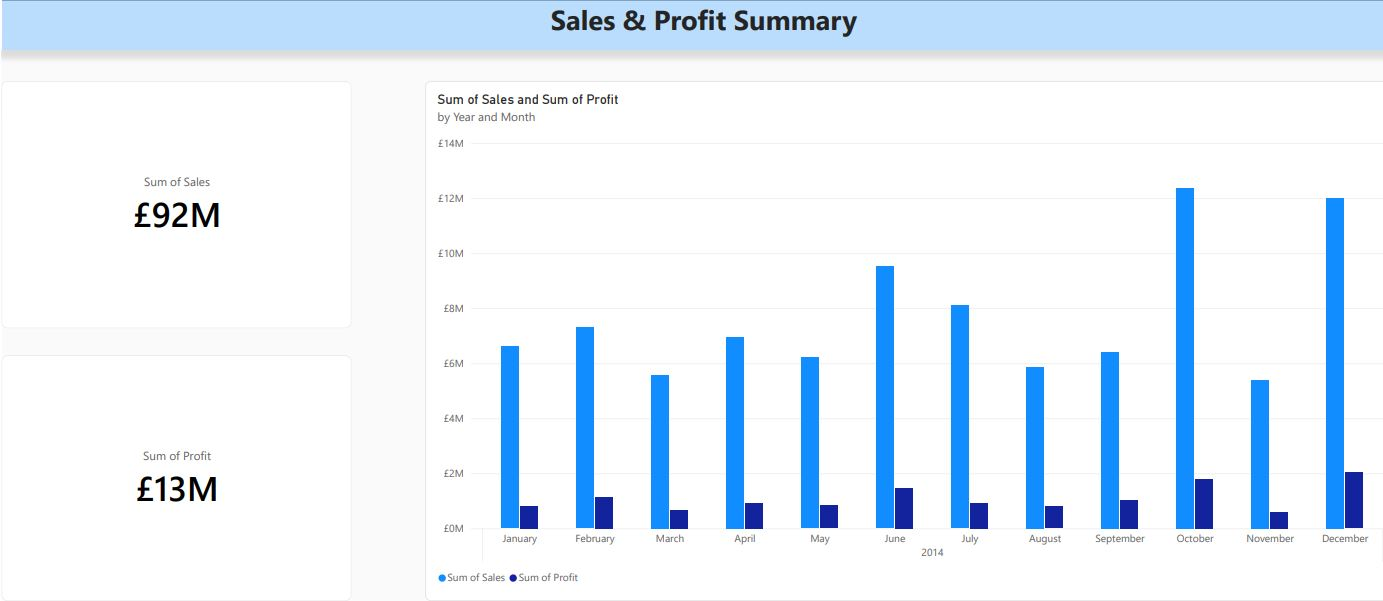

Layout of this report page (visuals, bound fields, positions):
{"tool":"powerbi","page":{"name":"Page 1","canvas":[1920,1080],"ordinal":0},"visuals":[{"type":"textbox","box":[0,0,1920.1,68],"z":0},{"type":"clusteredColumnChart","fields":{"Category":["financials.Date.Variation.Date Hierarchy.Year","financials.Date.Variation.Date Hierarchy.Month"],"Y":["Sum(financials.Sales)","Sum(financials.Profit)"]},"box":[579.1,110.2,1341,710.4],"z":1000},{"type":"cardVisual","fields":{"Data":["Sum(financials.Sales)"]},"box":[0,110.2,478.3,337.6],"z":2000},{"type":"cardVisual","fields":{"Data":["Sum(financials.Profit)"]},"box":[0,485.3,478.3,335.3],"z":3000}]}

Visuals, with their boxes on the page's 1920x1080 design canvas (x1, y1, x2, y2). These are canvas units, not pixel positions in the 1383x601 screenshot, which may show the page scaled, cropped or inside an application window:
textbox: 0,0,1920,68
clusteredColumnChart - financials.Date.Variation.Date Hierarchy.Year x financials.Date.Variation.Date Hierarchy.Month: 579,110,1920,821
cardVisual - Sum(financials.Sales): 0,110,478,448
cardVisual - Sum(financials.Profit): 0,485,478,821
